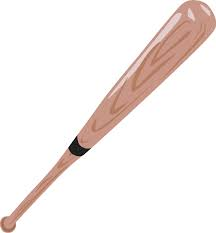baseball bat: (1, 1, 216, 233)
